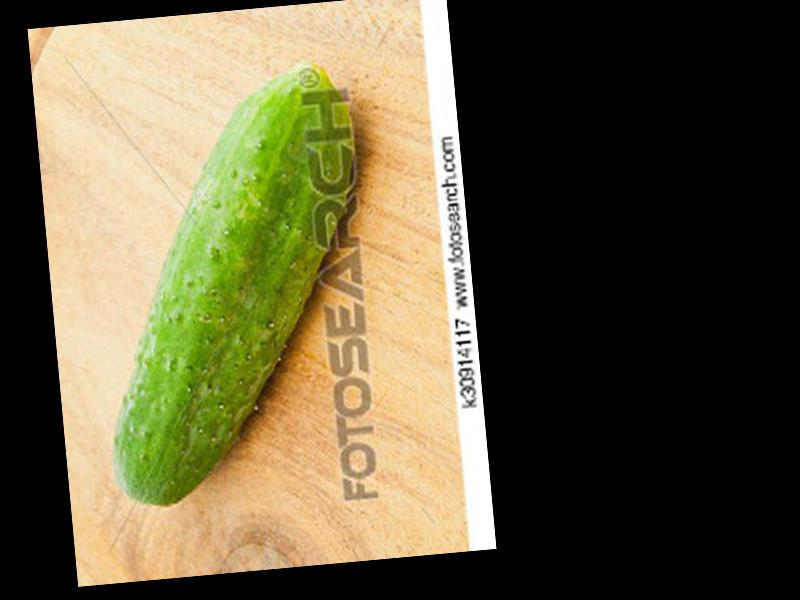Cucumber: (79, 58, 388, 511)
